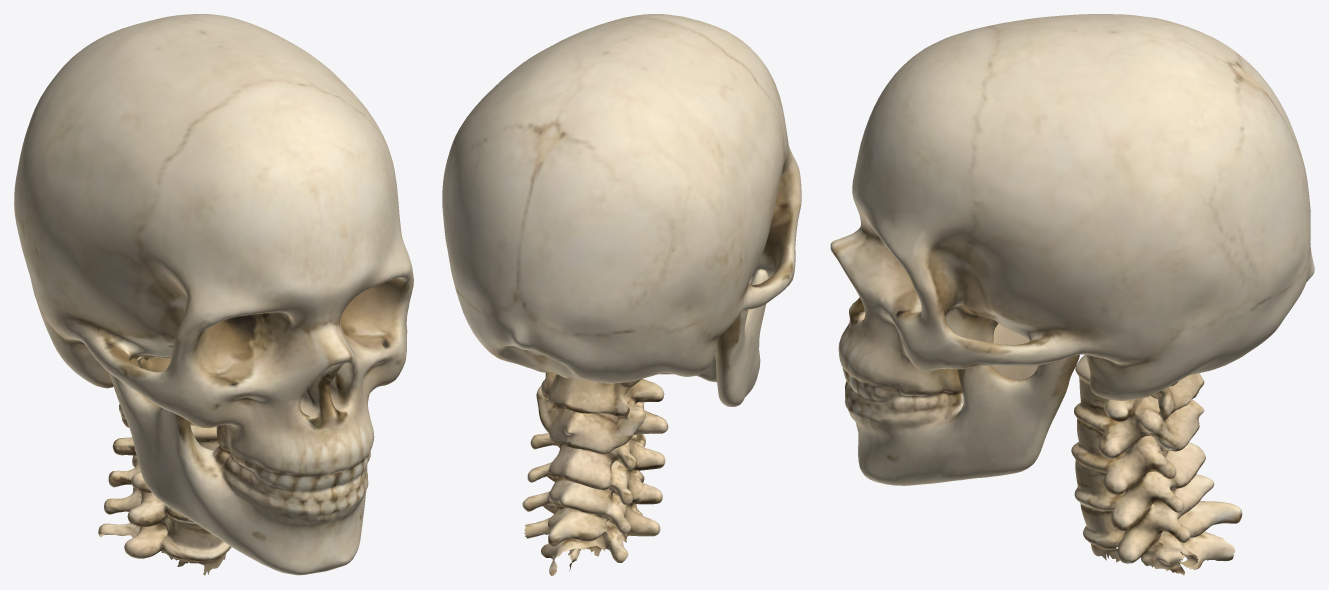
Rendered from Cabeza.obj.
3 renders of one model, left to right at view 1: azimuth 30°, elevation 25°; view 2: azimuth 150°, elevation 25°; view 3: azimuth 270°, elevation 25°, orthographic. The views are drawn at different scales.
Visible parts, largest first — view 1: Cabeza; view 2: Cabeza; view 3: Cabeza.
Boxes of the visible parts, x1,y1,x2,y2 form: Cabeza: (14, 14, 413, 575); Cabeza: (442, 14, 801, 575); Cabeza: (830, 14, 1314, 575).
Bounding box in the file's own units: 0.1535 × 0.2592 × 0.2097.
Materials: 1 (1 with a texture image).
